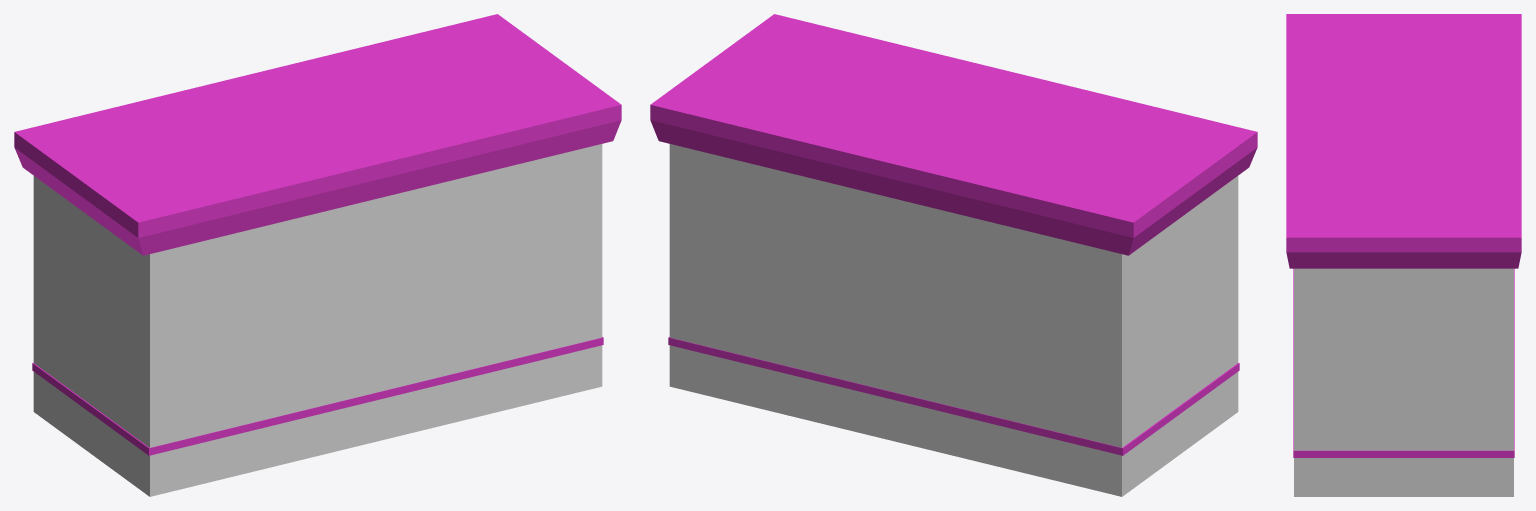
Rendered from building7.fbx.
The picture shows the model from 3 angles, left to right: view 1: azimuth 30°, elevation 25°; view 2: azimuth 150°, elevation 25°; view 3: azimuth 270°, elevation 25°; orthographic projection. The views are drawn at different scales.
Visible parts, largest first — view 1: Cube.006; view 2: Cube.006; view 3: Cube.006.
Part boxes in pixels (x1,y1,x2,y2): Cube.006: [14, 14, 621, 496]; Cube.006: [650, 14, 1257, 496]; Cube.006: [1286, 14, 1521, 496].
Size of the model in its own units: 4500 by 2500 by 2000.
